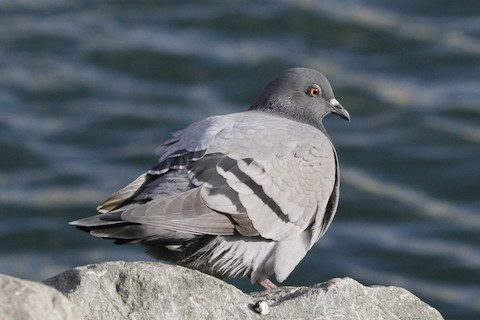pigeon: (61, 59, 359, 292)
